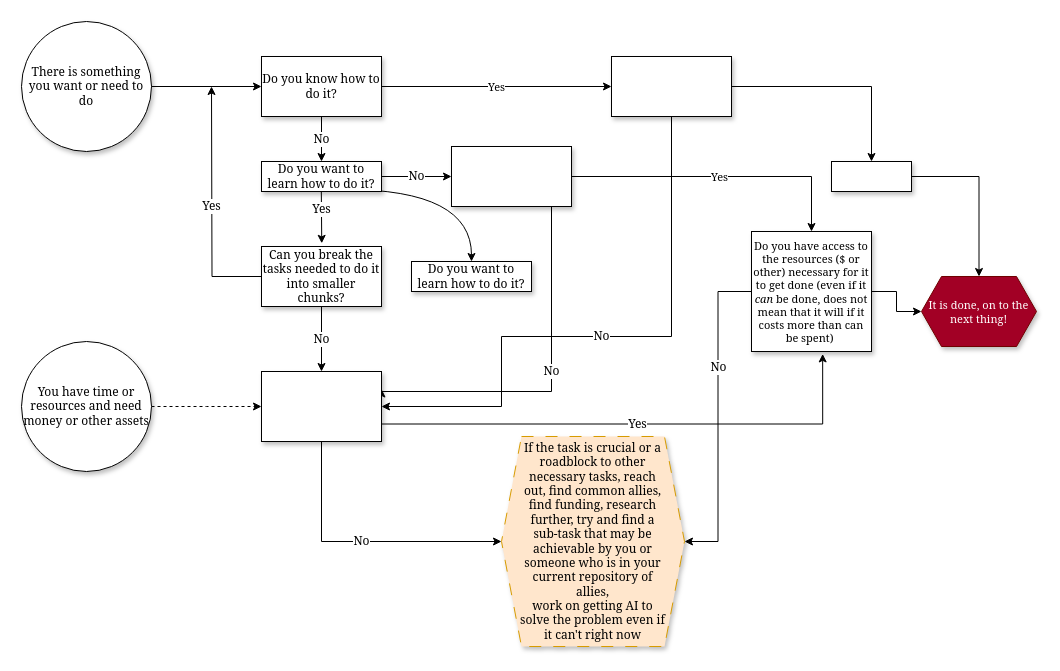
Some shapes in this 1060 by 671 pixel diagram are drawn without their labels. Each missing label, with the centre of its shape:
Are there other people who may be able to do it, possibly for a price.: the point at 322,407
Do you have time to do it?: the point at 672,88
Does AI know how to do it?: the point at 512,178
Then do it!: the point at 872,177
